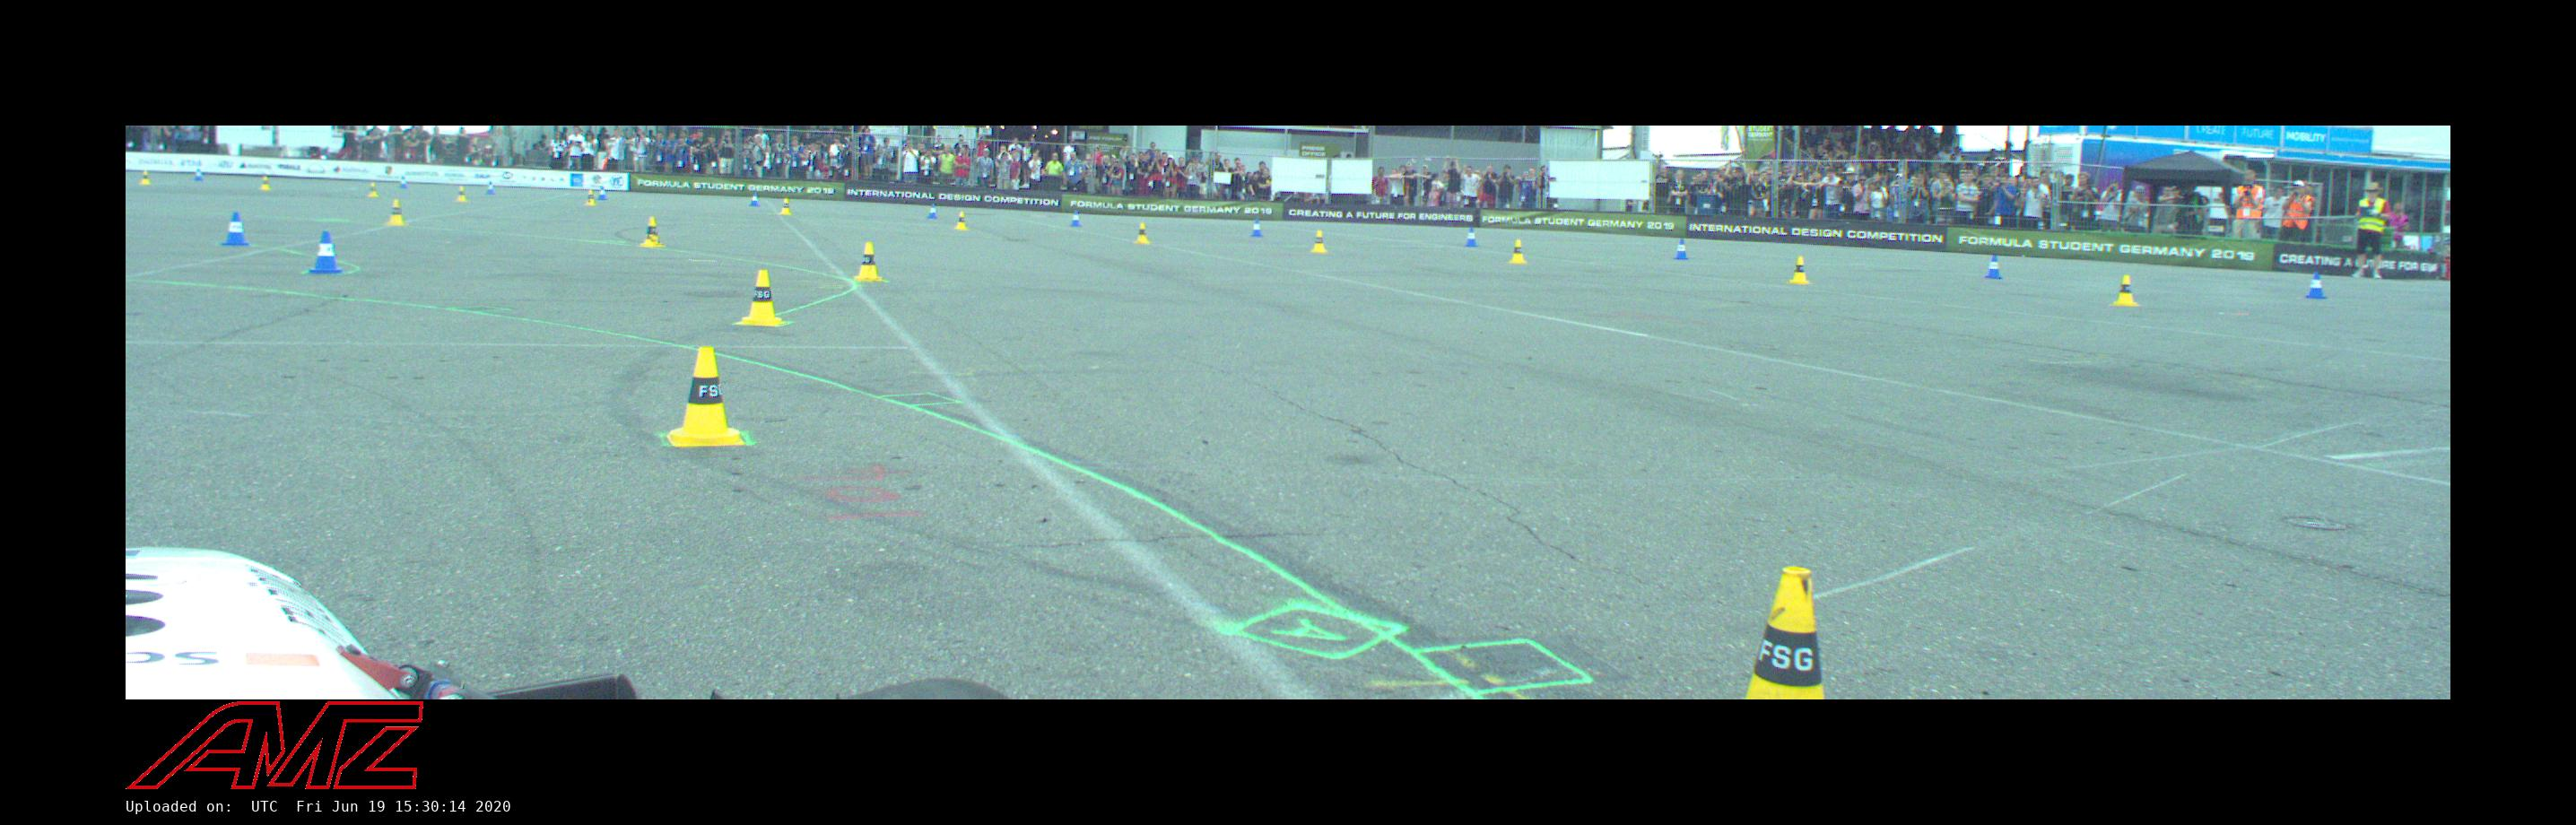blue_cone: (309, 230, 343, 273), (222, 214, 250, 245), (2305, 273, 2326, 299), (1985, 255, 2003, 278), (1672, 238, 1690, 260), (1464, 228, 1479, 247), (1250, 219, 1263, 237), (1069, 210, 1083, 227), (748, 192, 761, 207), (927, 204, 938, 219), (485, 181, 496, 194), (398, 176, 409, 189), (192, 169, 204, 181), (598, 187, 608, 200)
yellow_cone: (1748, 567, 1828, 698), (665, 347, 746, 447), (738, 270, 784, 325), (853, 242, 885, 281), (2111, 274, 2139, 306), (639, 217, 665, 247), (1789, 256, 1810, 283), (386, 199, 407, 225), (1510, 240, 1528, 263), (1134, 222, 1150, 243), (1311, 230, 1326, 251), (955, 212, 969, 230), (779, 199, 793, 214), (453, 186, 468, 200), (366, 182, 378, 197), (138, 173, 151, 184), (260, 176, 271, 189), (587, 191, 596, 204)
